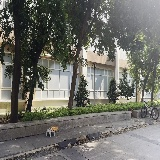fire: (51, 126, 58, 130)
